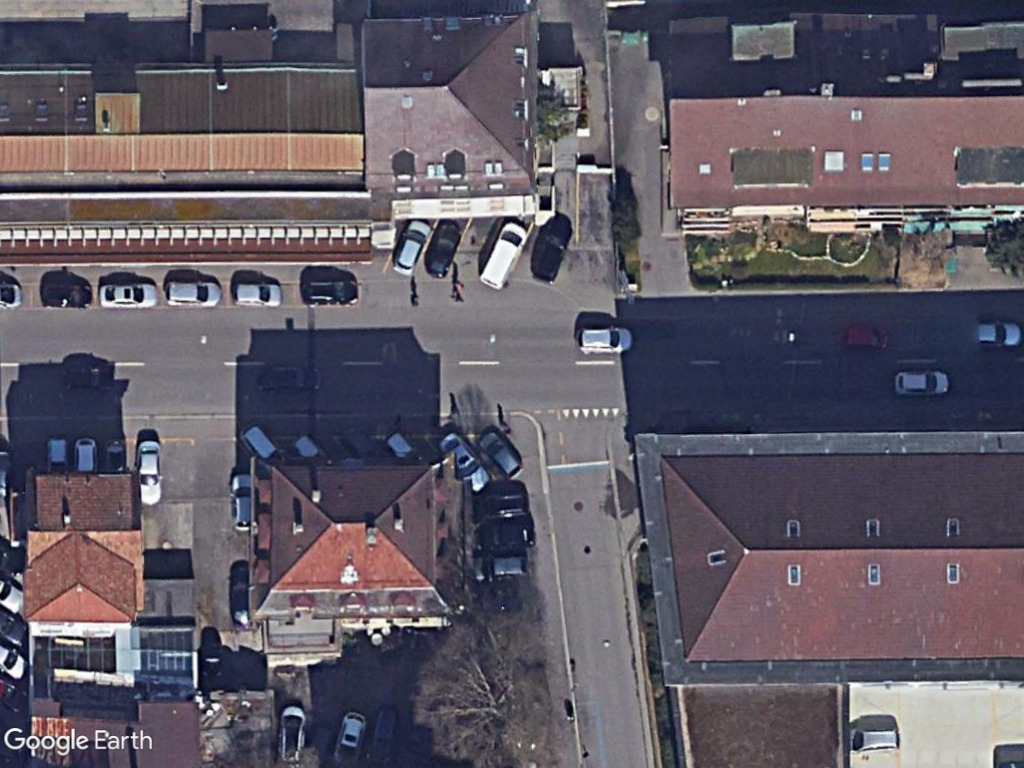car: (390, 217, 433, 277), (477, 431, 526, 481), (134, 437, 165, 506), (162, 278, 224, 309), (574, 324, 635, 355), (98, 280, 161, 309), (892, 369, 952, 398), (229, 280, 287, 309), (842, 323, 891, 353)
van: (478, 220, 530, 289)
